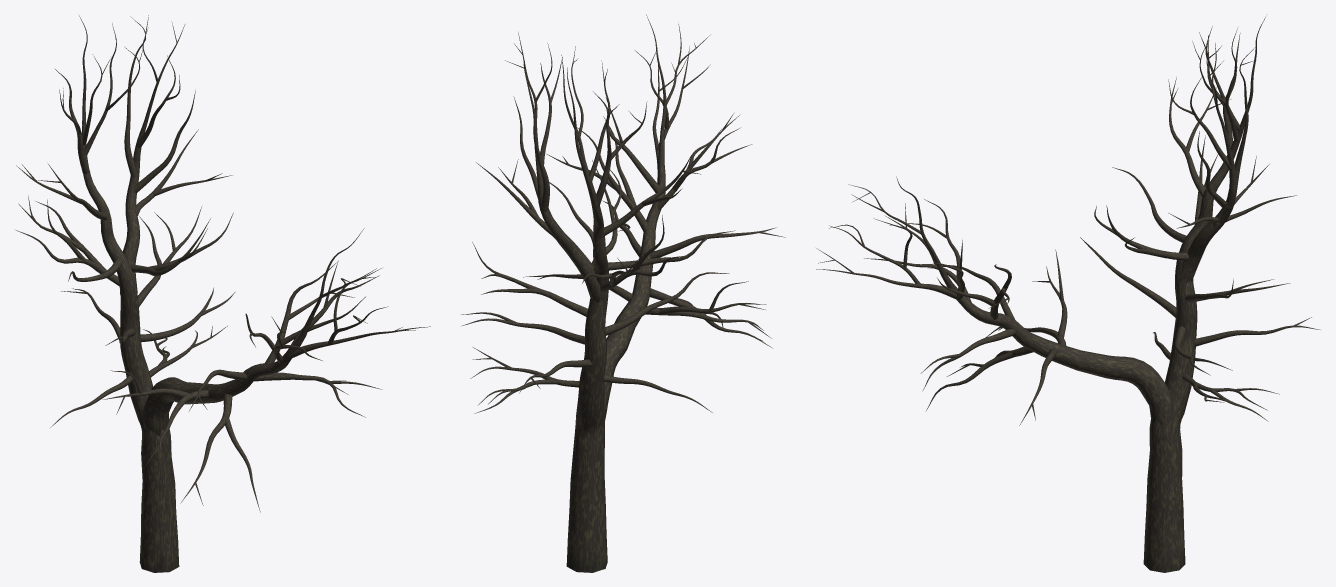
Rendered from Tree.fbx.
The picture shows the model from 3 angles, left to right: view 1: azimuth 30°, elevation 25°; view 2: azimuth 150°, elevation 25°; view 3: azimuth 270°, elevation 25°; orthographic projection. The views are drawn at different scales.
Parts seen in each view (by area): view 1: tree.001; view 2: tree.001; view 3: tree.001.
Boxes of the visible parts, x1=… form: tree.001: x1=16, y1=15, x2=430, y2=572; tree.001: x1=461, y1=14, x2=785, y2=572; tree.001: x1=816, y1=17, x2=1320, y2=572.
Size of the model in its own units: 426 by 874 by 751.
